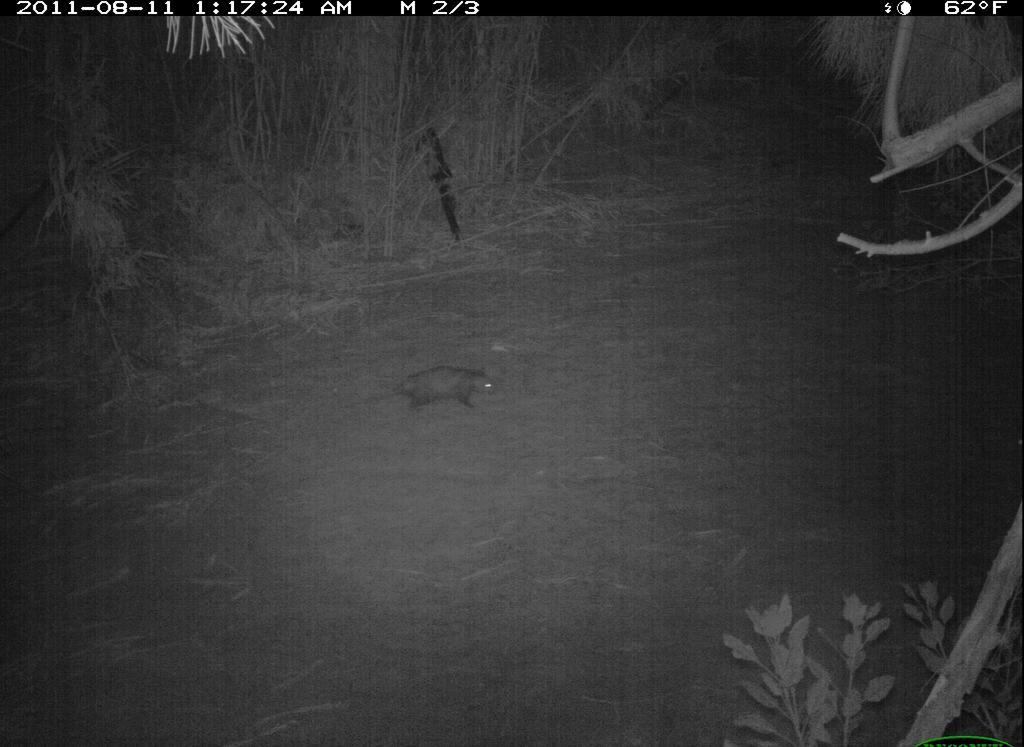opossum: (349, 364, 513, 417)
